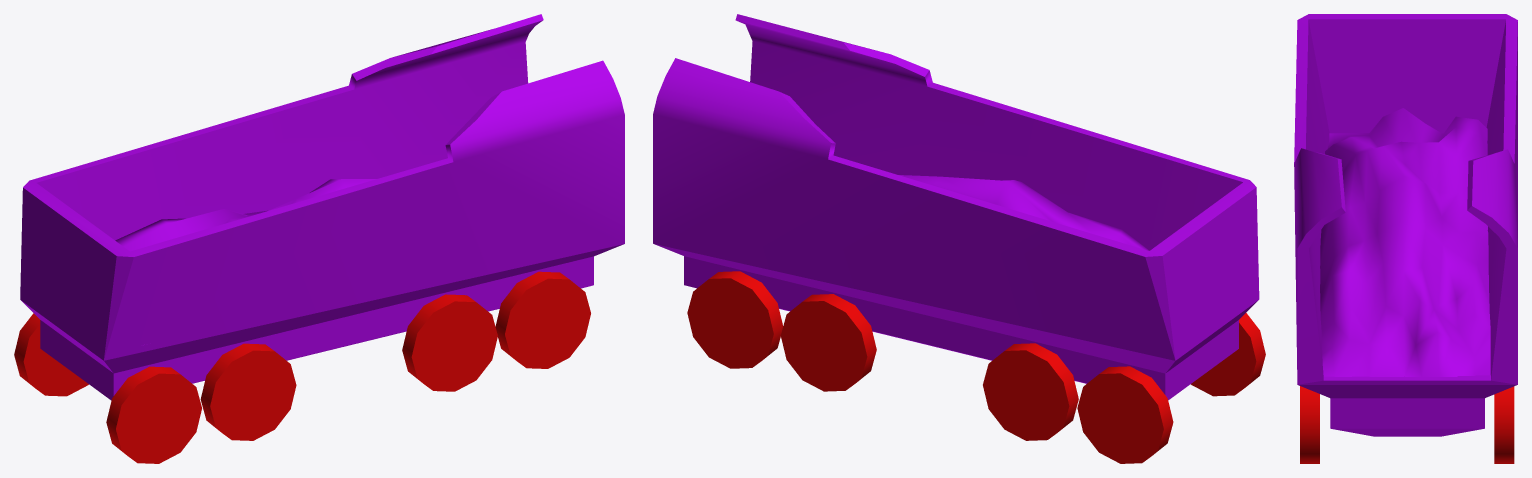
Rendered from TrainCoalCarMesh.fbx.
The picture shows the model from 3 angles, left to right: view 1: azimuth 30°, elevation 25°; view 2: azimuth 150°, elevation 25°; view 3: azimuth 270°, elevation 25°; orthographic projection. The views are drawn at different scales.
Parts seen in each view (by area): view 1: TRAIN_CoalCar, TrainWheels31, TrainWheels29, TrainWheels27, TrainWheels25, Coal, TrainWheels26; view 2: TRAIN_CoalCar, TrainWheels28, TrainWheels30, TrainWheels26, TrainWheels24, Coal, TrainWheels27; view 3: TRAIN_CoalCar, Coal, TrainWheels24, TrainWheels25.
Boxes of the visible parts, x1,y1,x2,y2 form: TRAIN_CoalCar: (20, 14, 624, 400); TrainWheels31: (402, 294, 497, 391); TrainWheels29: (200, 343, 296, 440); TrainWheels27: (106, 366, 201, 463); TrainWheels25: (495, 271, 590, 368); Coal: (115, 179, 376, 345); TrainWheels26: (14, 313, 88, 396); TRAIN_CoalCar: (653, 14, 1259, 400); TrainWheels28: (983, 343, 1078, 440); TrainWheels30: (780, 294, 876, 391); TrainWheels26: (1077, 366, 1173, 463); TrainWheels24: (687, 271, 783, 368); Coal: (899, 175, 1149, 250); TrainWheels27: (1191, 313, 1265, 396); TRAIN_CoalCar: (1294, 14, 1517, 436); Coal: (1320, 108, 1490, 376); TrainWheels24: (1494, 386, 1514, 463); TrainWheels25: (1300, 386, 1319, 463).
Size of the model in its own units: 0.6989 by 0.3618 by 0.2514.
